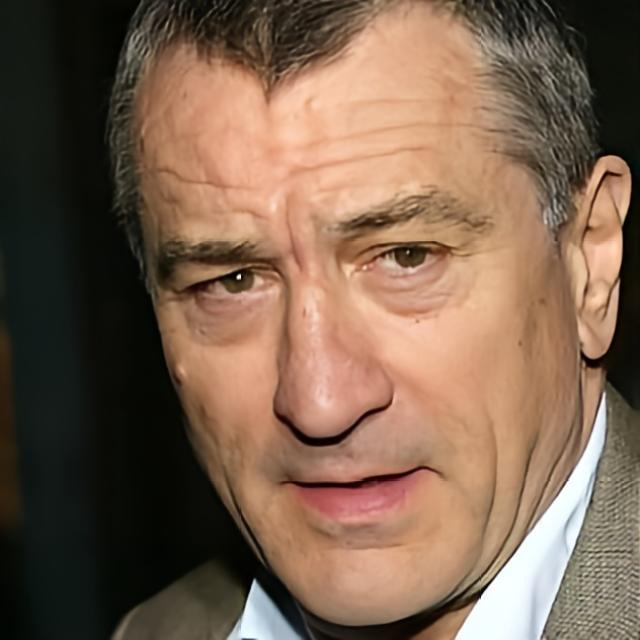disgust: (125, 1, 572, 630)
